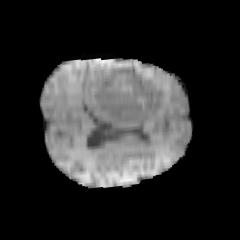glioma: (94, 66, 164, 119)
